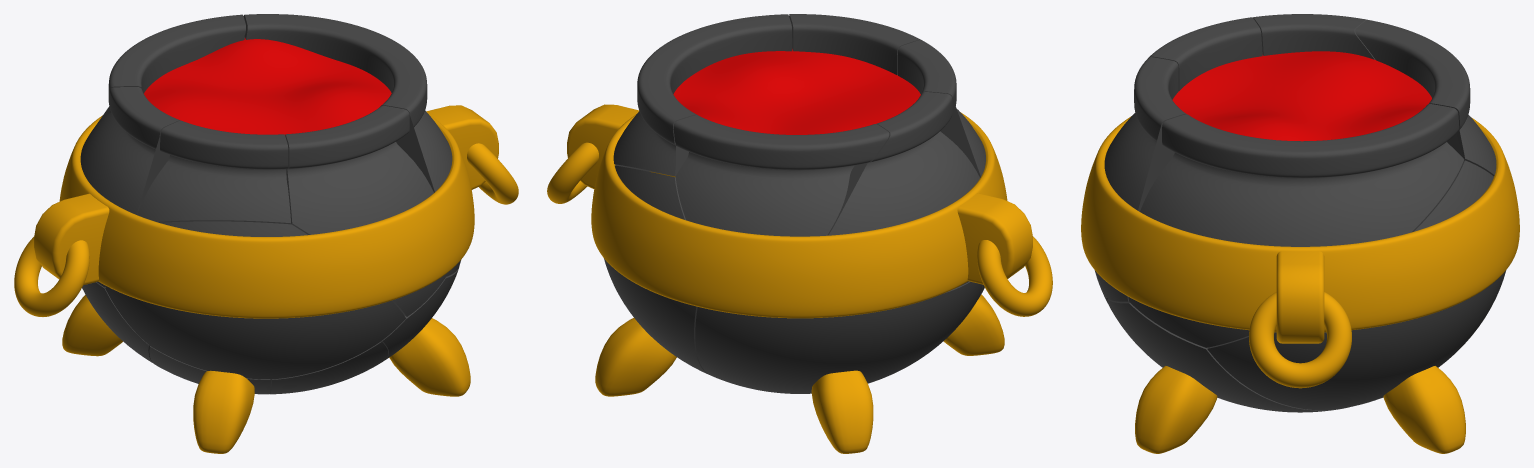
Rendered from calderoRojo.fbx.
The picture shows the model from 3 angles, left to right: view 1: azimuth 30°, elevation 25°; view 2: azimuth 150°, elevation 25°; view 3: azimuth 270°, elevation 25°; orthographic projection. The views are drawn at different scales.
Parts seen in each view (by area): view 1: Sphere.004, Circle.078, Sphere_cell.040, Sphere_cell.047, Sphere_cell.039, Sphere_cell.046, Sphere_cell.043, Cube.2129, BézierCircle.003, Sphere_cell.037, Plane.577, Plane.578 (+5 smaller); view 2: Sphere.004, Sphere_cell.037, Sphere_cell.038, Circle.078, Sphere_cell.043, Sphere_cell.046, Cube.2129, Sphere_cell.044, BézierCircle.003, Sphere_cell.047, Plane.576, Plane.575 (+2 smaller); view 3: Sphere.004, Sphere_cell.046, Circle.078, Sphere_cell.044, Sphere_cell.047, Sphere_cell.037, Sphere_cell.041, Plane.575, Plane.578, BézierCircle.003, Cube.2129, Sphere_cell.039 (+1 smaller).
Boxes of the visible parts, x1,y1,x2,y2 form: Sphere.004: [59, 114, 474, 318]; Circle.078: [144, 38, 391, 135]; Sphere_cell.040: [105, 221, 405, 379]; Sphere_cell.047: [285, 105, 446, 316]; Sphere_cell.039: [136, 120, 290, 224]; Sphere_cell.046: [243, 14, 460, 276]; Sphere_cell.043: [80, 87, 180, 287]; Cube.2129: [34, 105, 498, 284]; BézierCircle.003: [14, 143, 518, 316]; Sphere_cell.037: [108, 14, 245, 93]; Plane.577: [193, 370, 254, 453]; Plane.578: [389, 318, 470, 396]; Sphere.004: [591, 112, 1007, 318]; Sphere_cell.037: [673, 115, 889, 236]; Sphere_cell.038: [695, 281, 982, 393]; Circle.078: [673, 49, 920, 134]; Sphere_cell.043: [827, 92, 979, 287]; Sphere_cell.046: [613, 14, 792, 176]; Cube.2129: [567, 104, 1032, 284]; Sphere_cell.044: [604, 165, 708, 374]; BézierCircle.003: [547, 142, 1052, 316]; Sphere_cell.047: [789, 14, 920, 75]; Plane.576: [811, 370, 873, 453]; Plane.575: [595, 318, 676, 396]; Sphere.004: [1081, 116, 1519, 332]; Sphere_cell.046: [1128, 104, 1464, 347]; Circle.078: [1172, 51, 1431, 141]; Sphere_cell.044: [1207, 160, 1506, 410]; Sphere_cell.047: [1096, 57, 1186, 301]; Sphere_cell.037: [1355, 20, 1496, 176]; Sphere_cell.041: [1107, 299, 1345, 412]; Plane.575: [1383, 366, 1465, 453]; Plane.578: [1135, 366, 1217, 453]; BézierCircle.003: [1249, 292, 1351, 388]; Cube.2129: [1276, 251, 1324, 343]; Sphere_cell.039: [1134, 17, 1262, 113].
Bounding box in the file's own units: 428 × 247 × 318.
